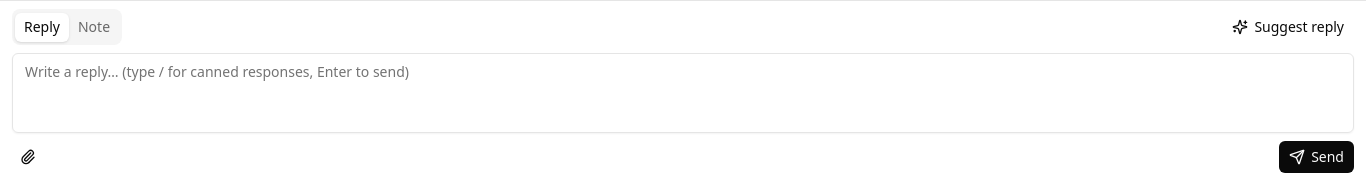
Scenario: Composer › toggles between reply and private note
The image size is (1366, 190).
Check: the text box labelled "reply" is shown, box [12,53,1354,133]
Step 1. Click the tab "Note" → coordinates (94, 27), box [69,12,119,42]
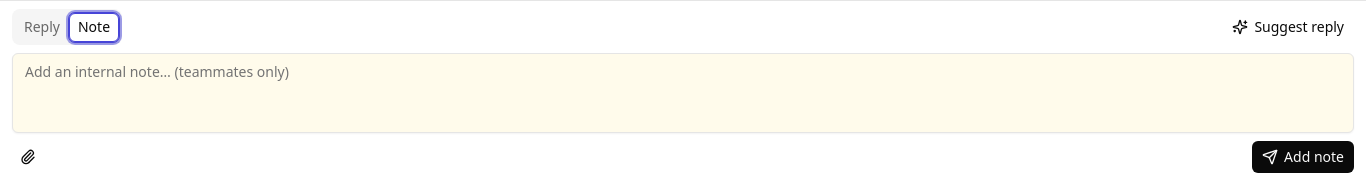
Check: the text box labelled "internal note" is shown, box [12,53,1354,133]
